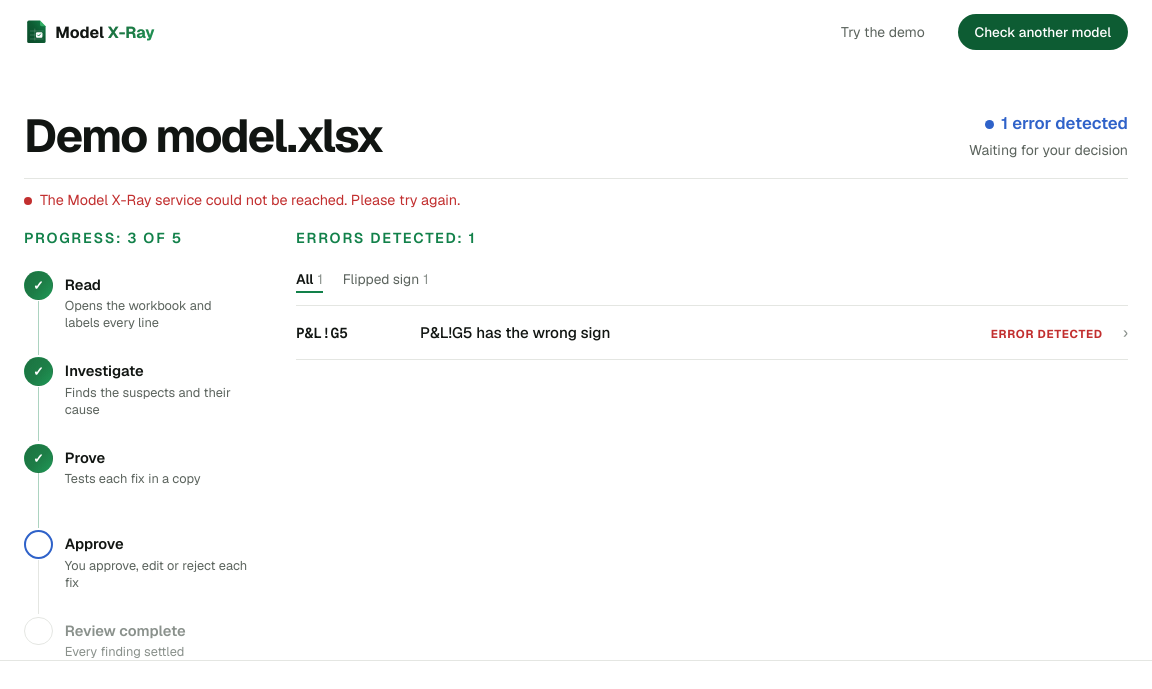
a run kept in the browser › a check stored without its sheet still restores its error and its explanation
Click the button "P&L!G5 P&L!G5 has the wrong sign Error detected ›" at (322, 333), box [296,306,1128,359]
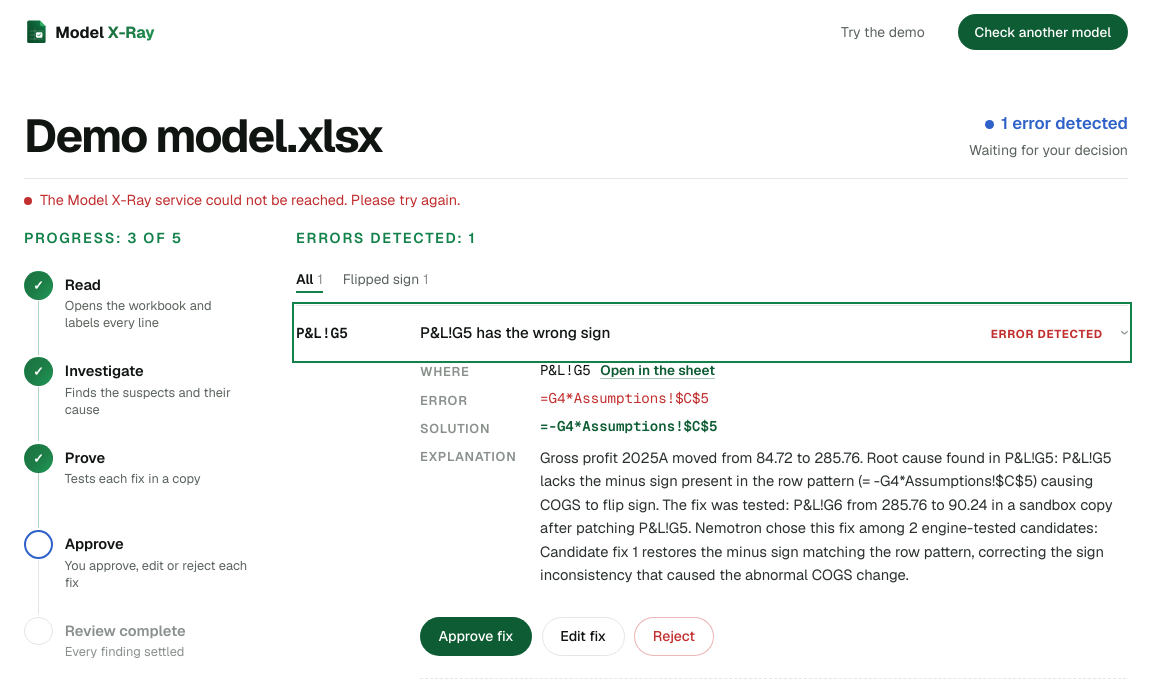
Expected: the text "P&L!G5 has the wrong sign" is shown, [420,323,610,342]
Result: the text "Gross profit 2025A moved from 84.72 to 285.76" is shown at [540,448,1113,584]
